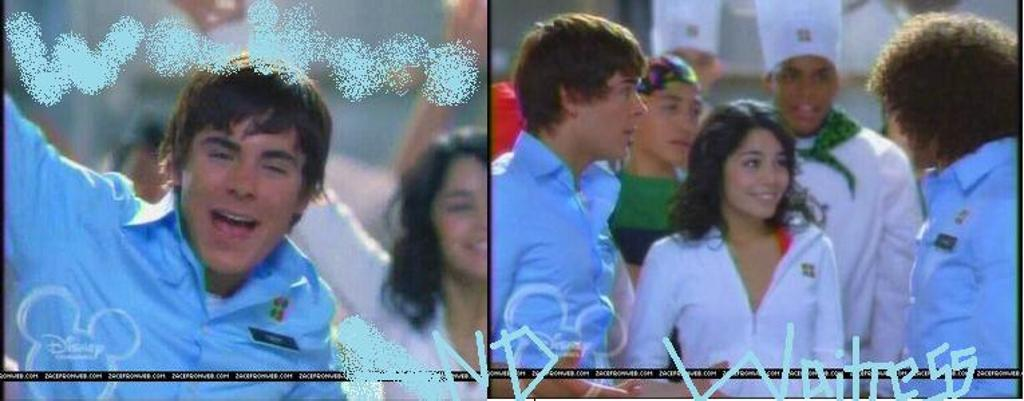face: (183, 129, 294, 274), (436, 173, 513, 278), (576, 72, 649, 158), (721, 148, 789, 218), (774, 66, 833, 133), (644, 95, 701, 163)
